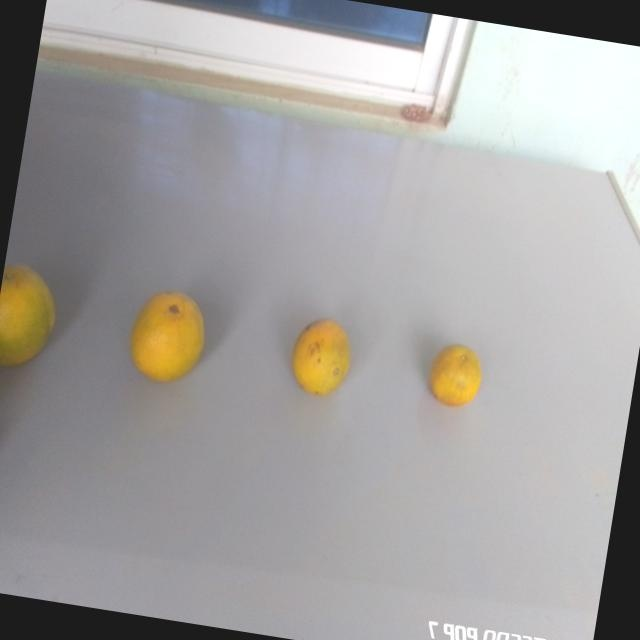agrume: (113, 272, 231, 405), (271, 303, 366, 418), (0, 265, 72, 387), (416, 328, 495, 424)
